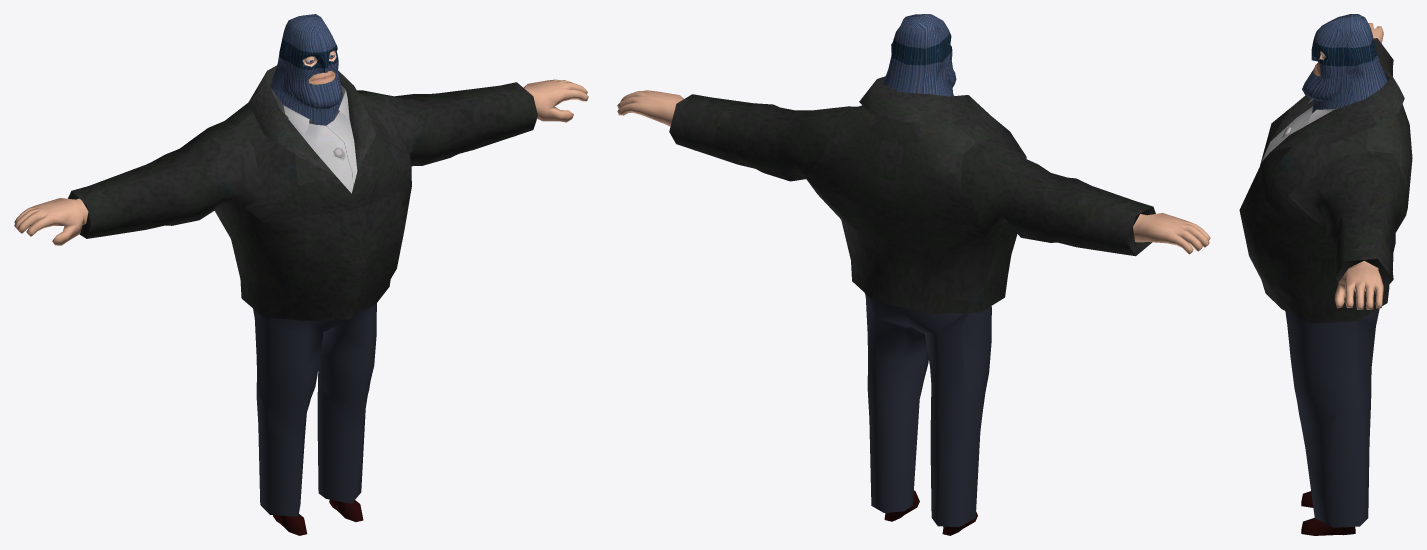
Rendered from Incredible_Skimask.obj.
The picture shows the model from 3 angles, left to right: view 1: azimuth 30°, elevation 25°; view 2: azimuth 150°, elevation 25°; view 3: azimuth 270°, elevation 25°; orthographic projection. The views are drawn at different scales.
Parts seen in each view (by area): view 1: Mesh_0066, Mesh_0065; view 2: Mesh_0066, Mesh_0065; view 3: Mesh_0066, Mesh_0065.
Boxes of the visible parts, x1=… form: Mesh_0066: x1=14, y1=65, x2=588, y2=535; Mesh_0065: x1=271, y1=14, x2=342, y2=125; Mesh_0066: x1=617, y1=76, x2=1210, y2=535; Mesh_0065: x1=883, y1=14, x2=956, y2=96; Mesh_0066: x1=1239, y1=23, x2=1412, y2=535; Mesh_0065: x1=1302, y1=14, x2=1387, y2=113.
Size of the model in its own units: 263 by 218 by 68.18.
